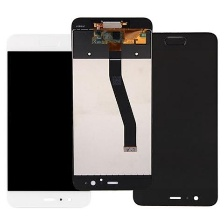phone: (3, 30, 93, 211), (130, 29, 220, 209), (67, 14, 157, 193)
